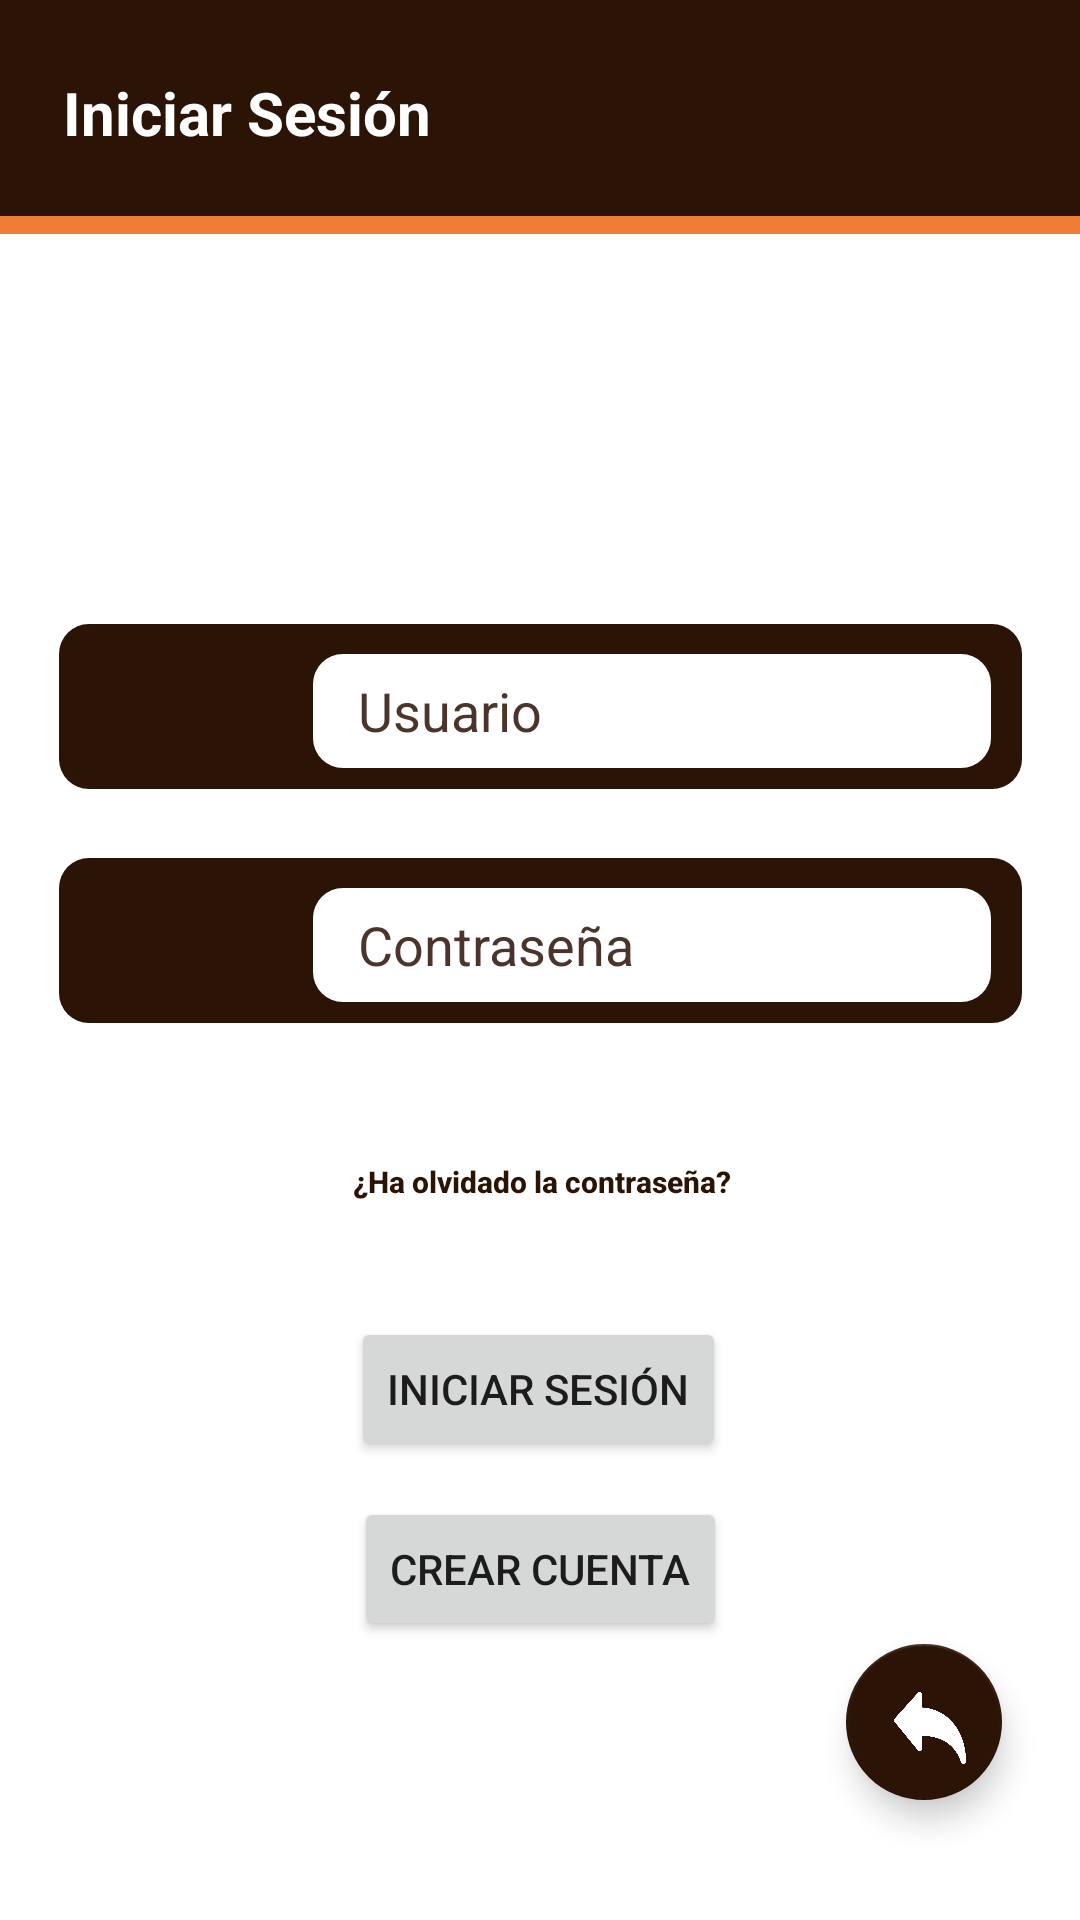

Named icons in this screenshot (1080px x 1920px) and their bounding boxes, box=[x1, y1, x2, y2]:
flecha: box=[846, 1644, 1002, 1800]
